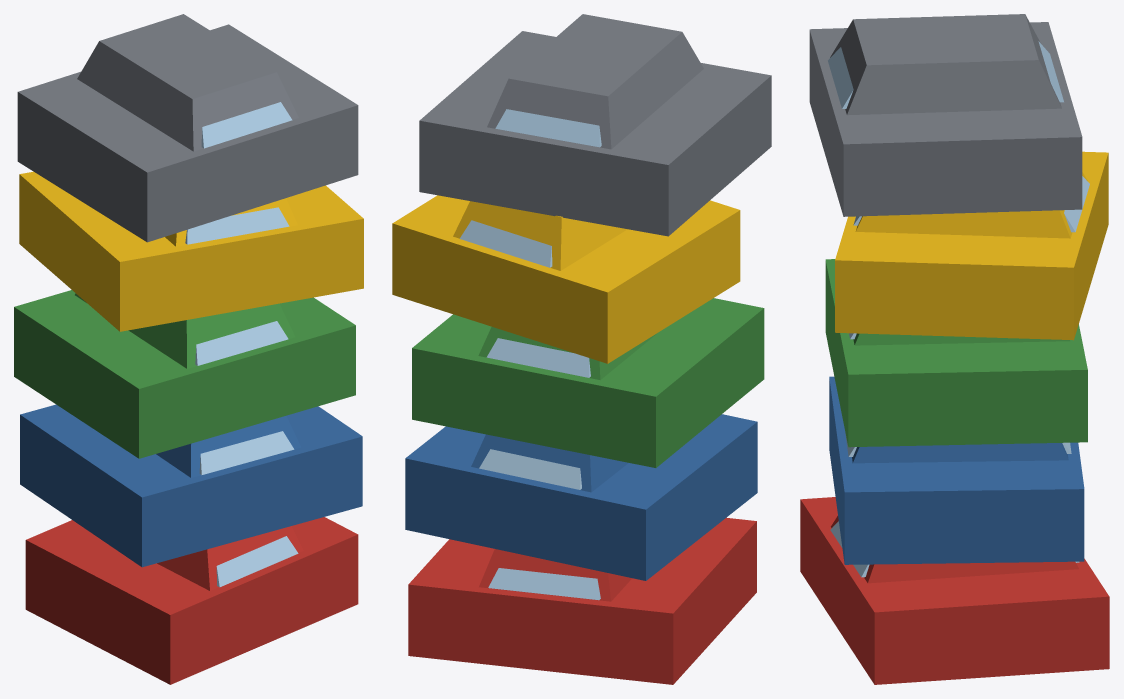
The model's file is env_r7_car_tower.glb.
3 renders of one model, left to right at view 1: azimuth 30°, elevation 25°; view 2: azimuth 150°, elevation 25°; view 3: azimuth 270°, elevation 25°, orthographic. The views are drawn at different scales.
Parts seen in each view (by area): view 1: env_r7_car_tower; view 2: env_r7_car_tower; view 3: env_r7_car_tower.
Boxes of the visible parts, x1,y1,x2,y2 form: env_r7_car_tower: (14, 14, 363, 684); env_r7_car_tower: (392, 14, 771, 684); env_r7_car_tower: (800, 14, 1109, 684).
Size of the model in its own units: 3.4 by 7 by 3.4.
1 material, 1 textured.
